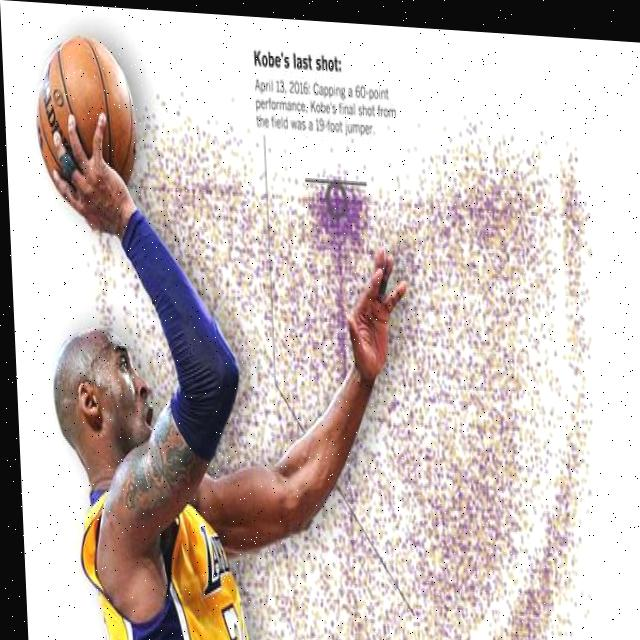Basketball: (33, 31, 141, 201)
